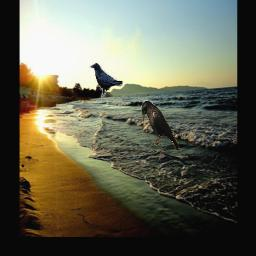Crow: (142, 100, 180, 150), (90, 63, 123, 100)
